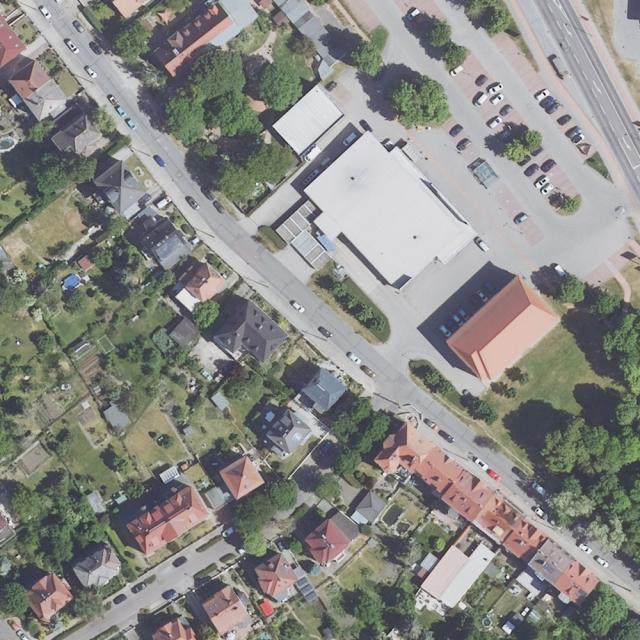ST: (541, 561, 556, 573), (578, 588, 589, 598)
